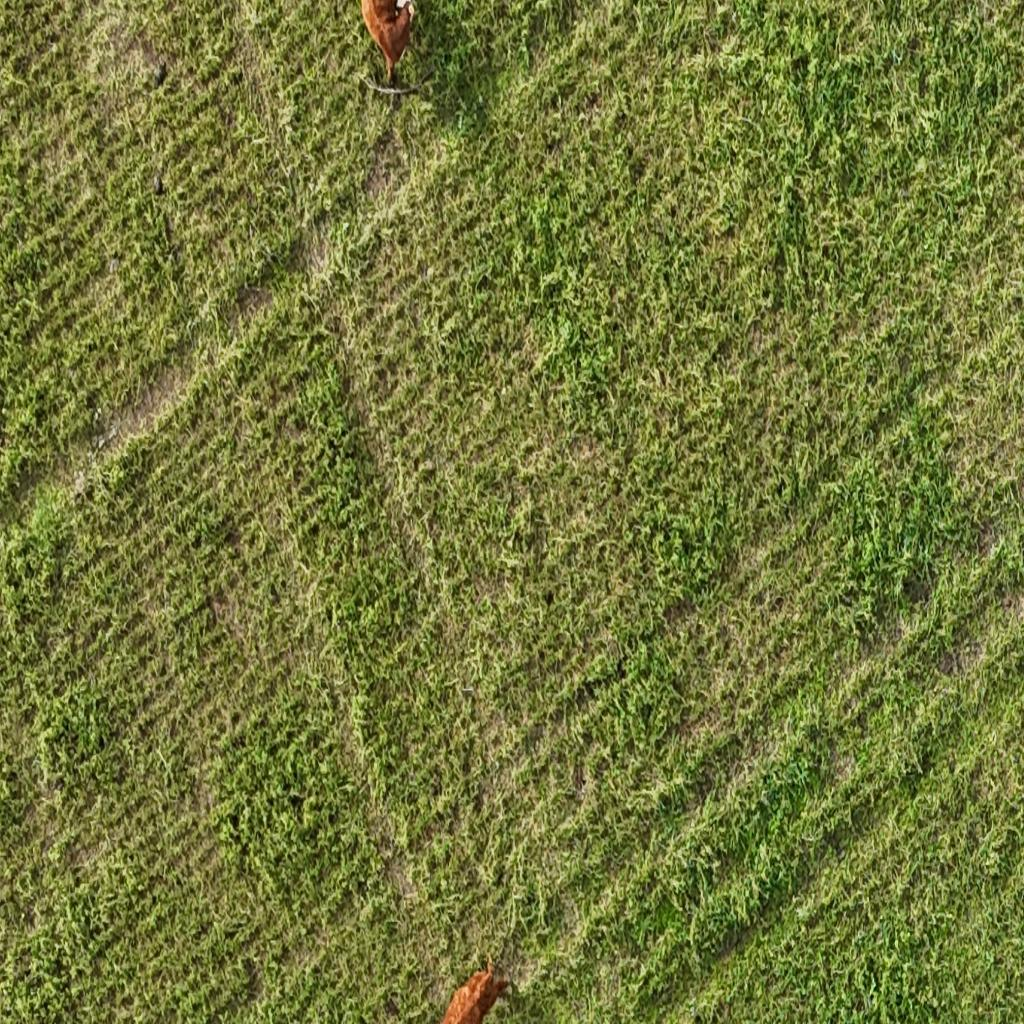cow: (354, 0, 420, 97), (437, 953, 515, 1024)
